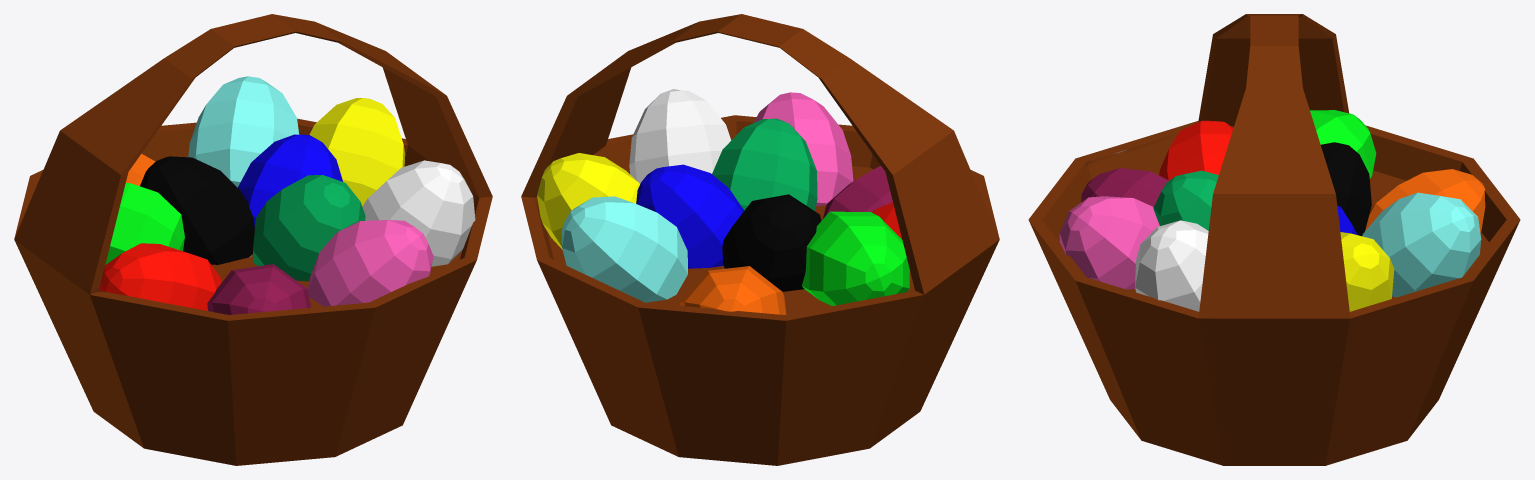
File: cesta_de_ovos_de_pascoa.fbx
The picture shows the model from 3 angles, left to right: view 1: azimuth 30°, elevation 25°; view 2: azimuth 150°, elevation 25°; view 3: azimuth 270°, elevation 25°; orthographic projection.
Visible parts, largest first — view 1: Cube.005; view 2: Cube.005; view 3: Cube.005.
Boxes of the visible parts, box(x1,y1,x2,y2) form: Cube.005: box(14, 14, 492, 465); Cube.005: box(521, 14, 999, 465); Cube.005: box(1028, 14, 1520, 465).
Size of the model in its own units: 262 by 228 by 275.
